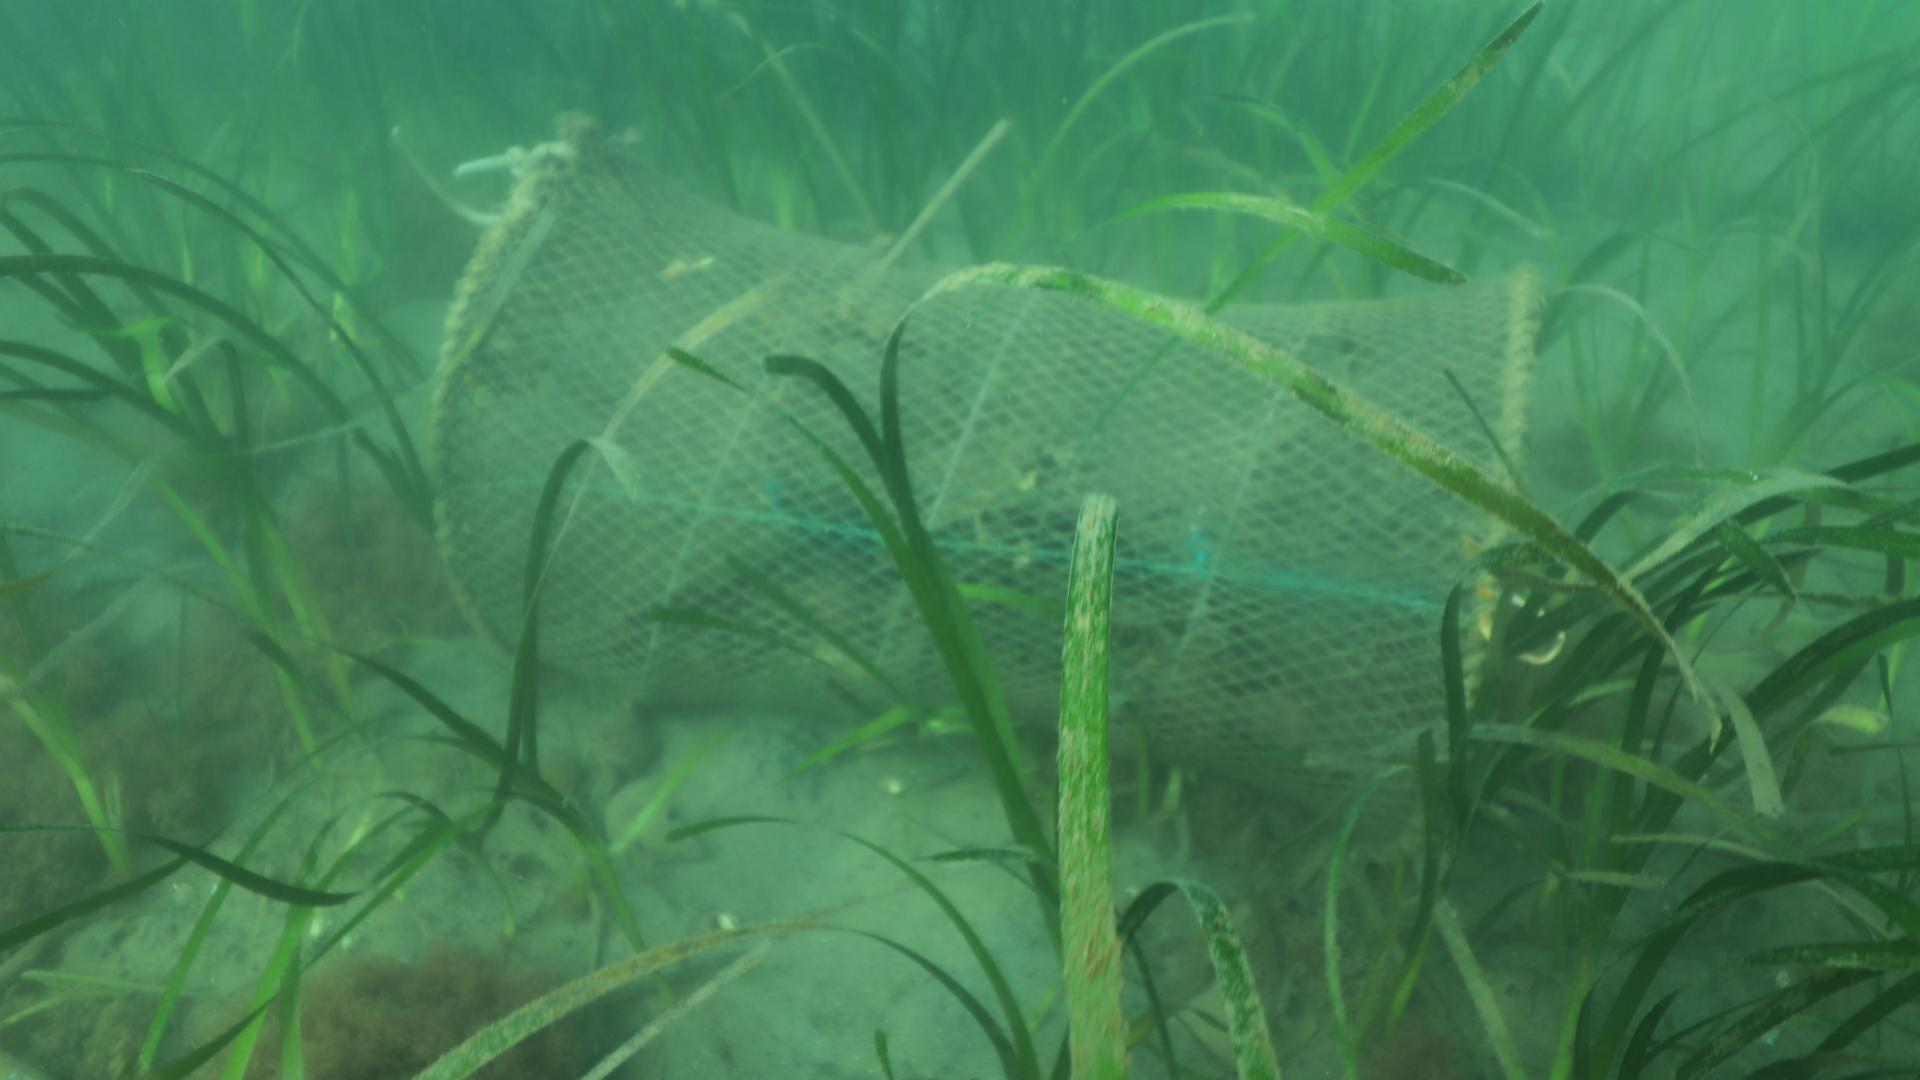spring fish trap: (423, 113, 1544, 874)
